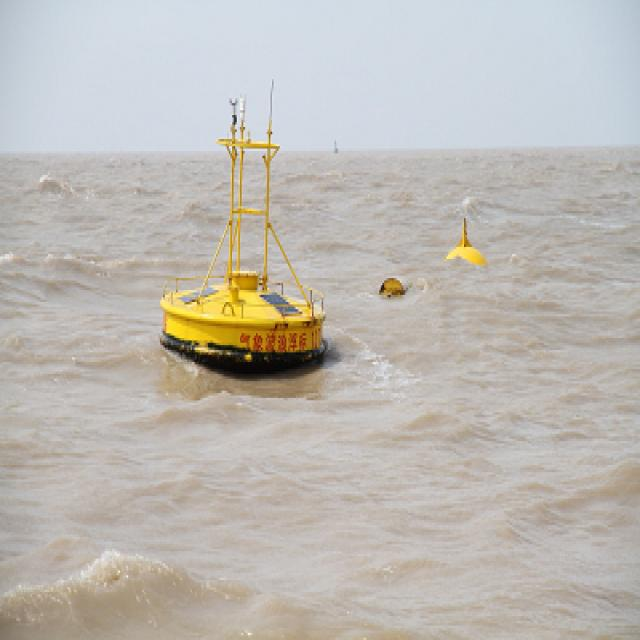buoy: (152, 92, 325, 362)
